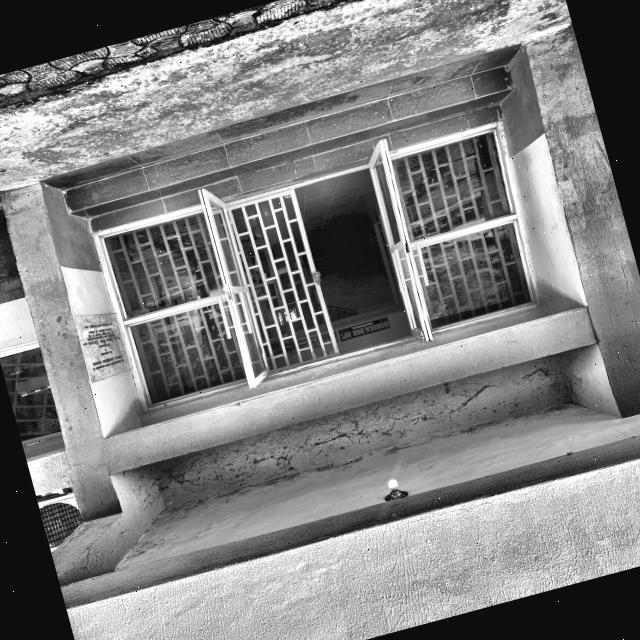door: (75, 112, 548, 414)
